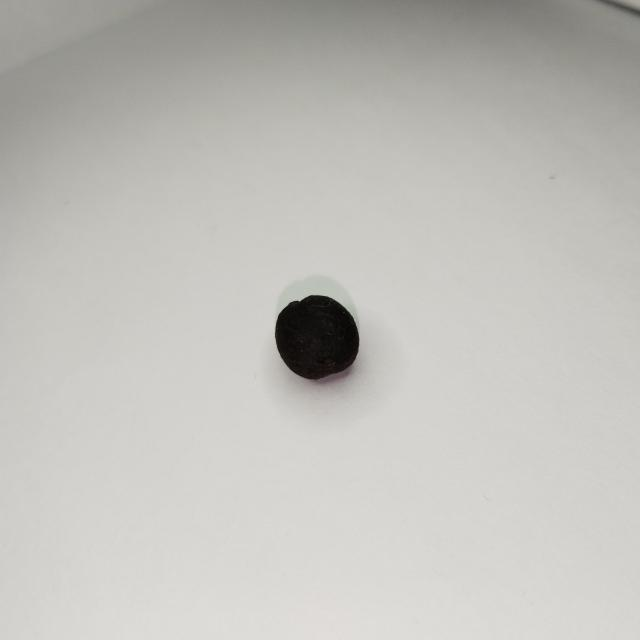Danado: (277, 299, 361, 382)
